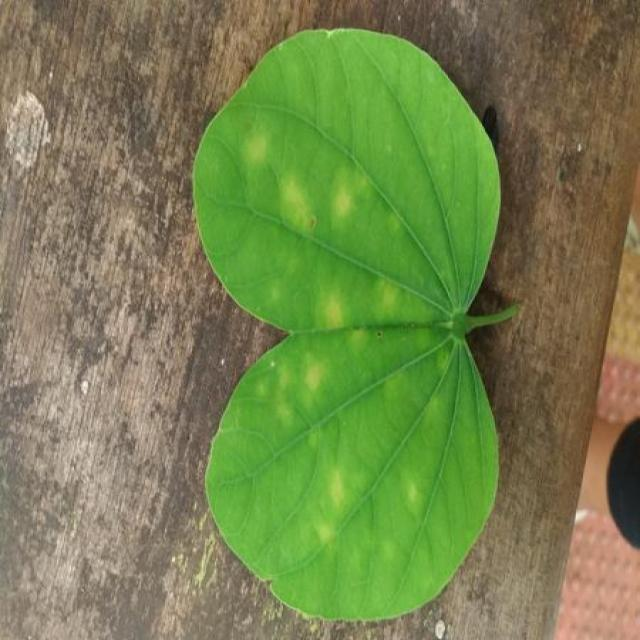Kambajala: (195, 29, 517, 619)
